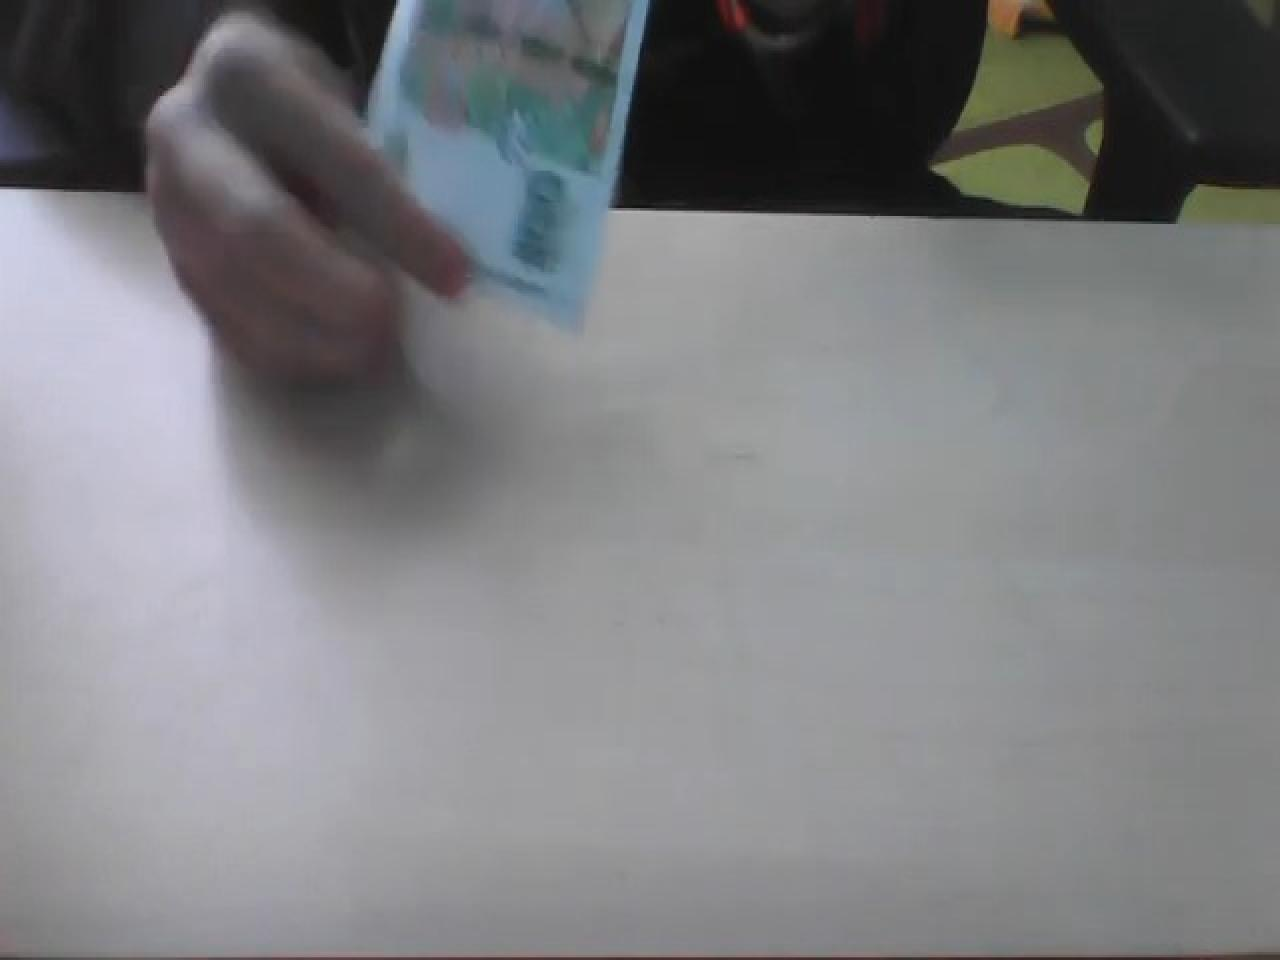100leva: (362, 0, 652, 333)
